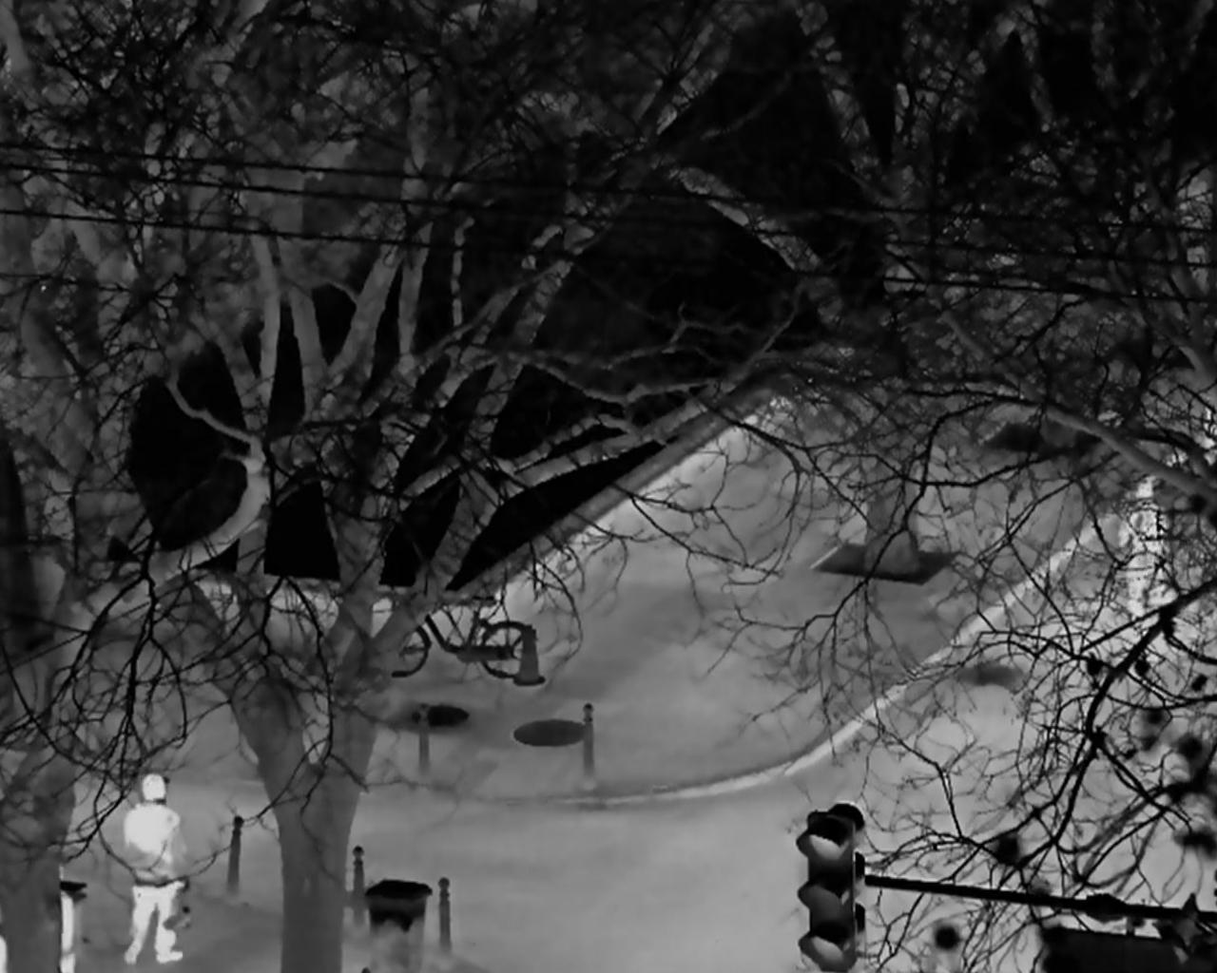person: (122, 772, 185, 964), (1120, 479, 1169, 609)
